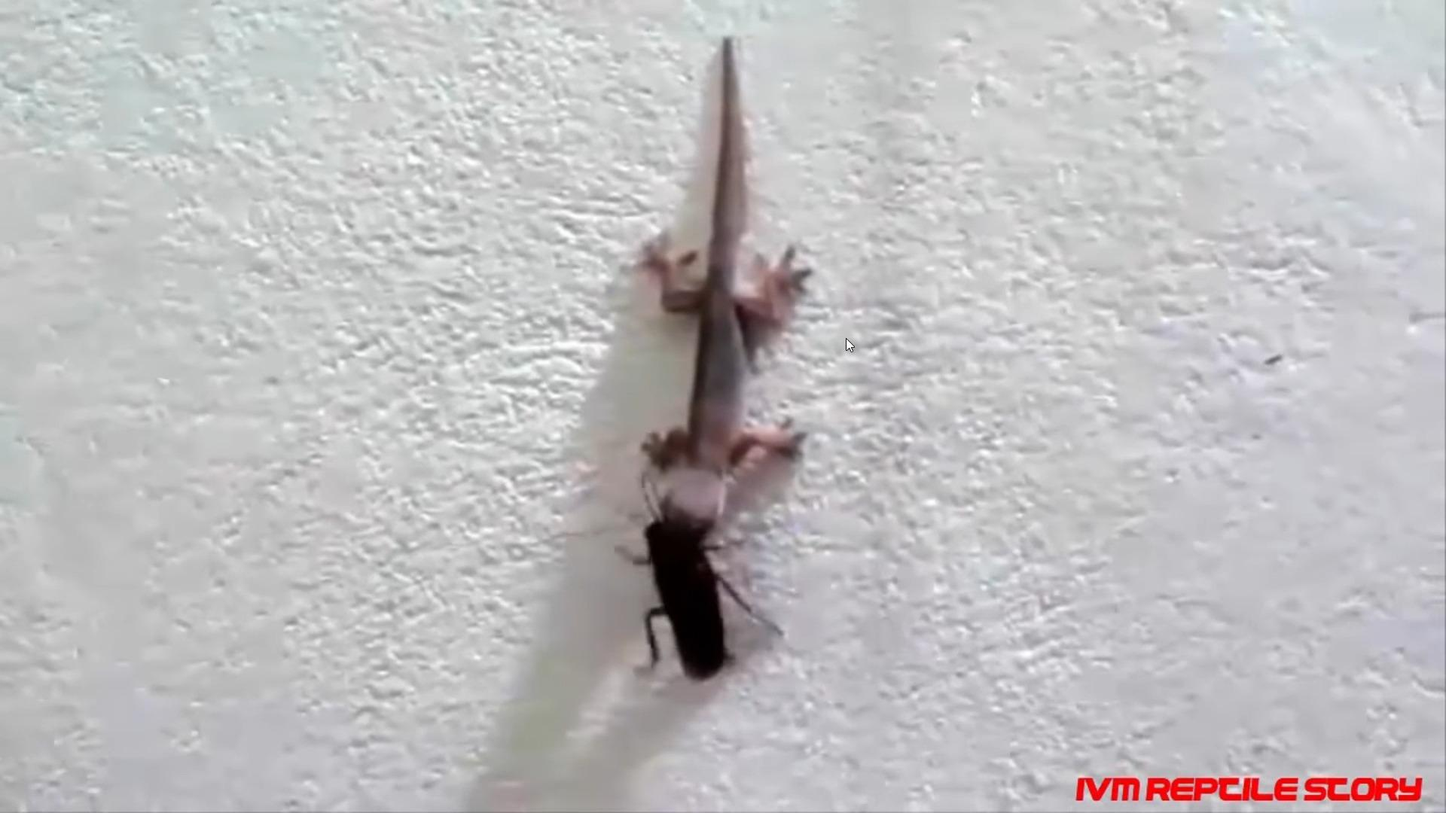cockroach: (623, 520, 727, 684)
lizard: (631, 59, 809, 547)
